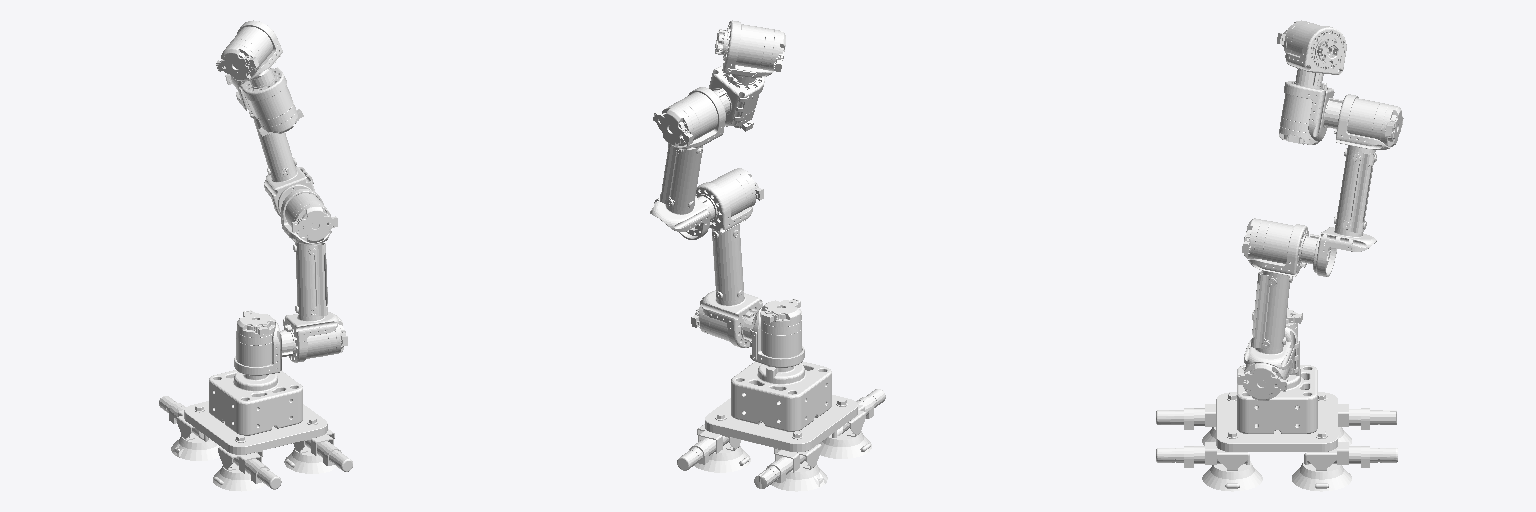
URDF robot description (jxb_sldasm):
<?xml version="1.0" encoding="utf-8" ?>
<!-- This URDF was automatically created by SolidWorks to URDF Exporter! Originally created by [author] ([email redacted]) 
     Commit Version: 1.6.0-4-g7f85cfe  Build Version: 1.6.7995.38578
     For more information, please see http://wiki.ros.org/sw_urdf_exporter -->
<robot name="jxb_sldasm">
    <link name="world"/>
    <joint name="fixed" type="fixed">
        <parent link="world"/>
        <child link="base_link"/>
</joint>
    <link name="base_link">
        <inertial>
            <origin xyz="0.00707733281285925 0.00390163519095444 0.0487248145542146" rpy="0 0 0" />
            <mass value="0.0000645528747878921" />
            <inertia ixx="0.0957396760294433" ixy="-2.58295144860551E-04" ixz="2.49382285641521E-06" iyy="0.0161499845822829" iyz="8.27662153337809E-05" izz="0.0858151890450393" />
        </inertial>
        <visual>
            <origin xyz="0 0 0" rpy="0 0 0" />
            <geometry>
                <mesh filename="package://jxb_sldasm/meshes/base_link.STL" />
            </geometry>
            <material name="">
                <color rgba="1 1 1 1" />
            </material>
        </visual>
        <collision>
            <origin xyz="0 0 0" rpy="0 0 0" />
            <geometry>
                <mesh filename="package://jxb_sldasm/meshes/base_link.STL" />
            </geometry>
        </collision>
    </link>
    <link name="j1_Link">
        <inertial>
            <origin xyz="-0.000467634014051053 -0.0284246972648927 0.0206555227855105" rpy="0 0 0" />
            <mass value="0.00000503529246369942" />
            <inertia ixx="2.84372510677827E-03" ixy="1.99420221191551E-9" ixz="-2.9146517555499E-07" iyy="2.75681662923528E-03" iyz="6.628531647362E-04" izz="2.51555208533708E-03" />
        </inertial>
        <visual>
            <origin xyz="0 0 0" rpy="0 0 0" />
            <geometry>
                <mesh filename="package://jxb_sldasm/meshes/j1_Link.STL" />
            </geometry>
            <material name="">
                <color rgba="1 1 1 1" />
            </material>
        </visual>
        <collision>
            <origin xyz="0 0 0" rpy="0 0 0" />
            <geometry>
                <mesh filename="package://jxb_sldasm/meshes/j1_Link.STL" />
            </geometry>
        </collision>
    </link>
    <joint name="j1" type="continuous">
        <origin xyz="-0.00371277173823002 -0.0487683768362331 0.0654949990001021" rpy="-1.57079632679489 0 -1.73190275212092" />
        <parent link="base_link" />
        <child link="j1_Link" />
        <axis xyz="0 1 0" />
    </joint>
    <link name="j2_Link">
        <inertial>
            <origin xyz="-5.25984108712407E-07 -0.0189831158015428 0.0392180438175903" rpy="0 0 0" />
            <mass value="0.00000468335738815202" />
            <inertia ixx="2.62800581707767E-03" ixy="-3.00150398338351E-08" ixz="1.82573542271984E-07" iyy="2.50074053197019E-03" iyz="6.26678281223961E-04" izz="2.54824789081549E-03" />
        </inertial>
        <visual>
            <origin xyz="0 0 0" rpy="0 0 0" />
            <geometry>
                <mesh filename="package://jxb_sldasm/meshes/j2_Link.STL" />
            </geometry>
            <material name="">
                <color rgba="1 1 1 1" />
            </material>
        </visual>
        <collision>
            <origin xyz="0 0 0" rpy="0 0 0" />
            <geometry>
                <mesh filename="package://jxb_sldasm/meshes/j2_Link.STL" />
            </geometry>
        </collision>
    </link>
    <joint name="j2" type="continuous">
        <origin xyz="0 -0.0360050009998999 0.0320793825378335" rpy="0 0 -0.0932539917190856" />
        <parent link="j1_Link" />
        <child link="j2_Link" />
        <axis xyz="0 0 -1" />
    </joint>
    <link name="j3_Link">
        <inertial>
            <origin xyz="-0.000813529048631828 -0.0965325373980729 -0.00376628112122888" rpy="0 0 0" />
            <mass value="0.00000587742012930213" />
            <inertia ixx="4.00663353174676E-03" ixy="-1.91961560417403E-08" ixz="-7.78318310715432E-06" iyy="2.79401427021461E-03" iyz="-6.26676992113216E-04" izz="3.88800338742538E-03" />
        </inertial>
        <visual>
            <origin xyz="0 0 0" rpy="0 0 0" />
            <geometry>
                <mesh filename="package://jxb_sldasm/meshes/j3_Link.STL" />
            </geometry>
            <material name="">
                <color rgba="1 1 1 1" />
            </material>
        </visual>
        <collision>
            <origin xyz="0 0 0" rpy="0 0 0" />
            <geometry>
                <mesh filename="package://jxb_sldasm/meshes/j3_Link.STL" />
            </geometry>
        </collision>
    </link>
    <joint name="j3" type="continuous">
        <origin xyz="0 -0.0376021687262774 0.047120617462167" rpy="-3.14159265330962 1.47911274323965 -3.14159265330844" />
        <parent link="j2_Link" />
        <child link="j3_Link" />
        <axis xyz="0 1 0" />
    </joint>
    <link name="j4_Link">
        <inertial>
            <origin xyz="-0.000926762993110702 -0.0392758870005305 -0.0591773900447444" rpy="0 0 0" />
            <mass value="0.00000770130248054421" />
            <inertia ixx="4.28784255583072E-03" ixy="1.95920500209058E-07" ixz="7.80761191412381E-06" iyy="3.07320922869266E-03" iyz="-6.10023531828584E-04" izz="4.35250142962103E-03" />
        </inertial>
        <visual>
            <origin xyz="0 0 0" rpy="0 0 0" />
            <geometry>
                <mesh filename="package://jxb_sldasm/meshes/j4_Link.STL" />
            </geometry>
            <material name="">
                <color rgba="1 1 1 1" />
            </material>
        </visual>
        <collision>
            <origin xyz="0 0 0" rpy="0 0 0" />
            <geometry>
                <mesh filename="package://jxb_sldasm/meshes/j4_Link.STL" />
            </geometry>
        </collision>
    </link>
    <joint name="j4" type="continuous">
        <origin xyz="0 -0.135397831273731 -0.0129530722227053" rpy="0 0 0.250121033232269" />
        <parent link="j3_Link" />
        <child link="j4_Link" />
        <axis xyz="0 0 -1" />
    </joint>
    <link name="j5_Link">
        <inertial>
            <origin xyz="0.000468469291555085 -0.00764696062652798 -0.0116640457997296" rpy="0 0 0" />
            <mass value="0.00000502376036372406" />
            <inertia ixx="2.84690401468513E-03" ixy="-3.98548667923441E-08" ixz="-2.28580213803622E-07" iyy="2.74050699121556E-03" iyz="6.57903698093498E-02" izz="2.50836286519278E-03" />
        </inertial>
        <visual>
            <origin xyz="0 0 0" rpy="0 0 0" />
            <geometry>
                <mesh filename="package://jxb_sldasm/meshes/j5_Link.STL" />
            </geometry>
            <material name="">
                <color rgba="1 1 1 1" />
            </material>
        </visual>
        <collision>
            <origin xyz="0 0 0" rpy="0 0 0" />
            <geometry>
                <mesh filename="package://jxb_sldasm/meshes/j5_Link.STL" />
            </geometry>
        </collision>
    </link>
    <joint name="j5" type="continuous">
        <origin xyz="0 -0.172999999999992 0" rpy="0 0 0.100392846686112" />
        <parent link="j4_Link" />
        <child link="j5_Link" />
        <axis xyz="0 0 1" />
    </joint>
    <link name="j6_Link">
        <inertial>
            <origin xyz="-0.000422063116782723 -0.0169962730691598 0.0103381753596599" rpy="0 0 0" />
            <mass value="0.00000559234056903561" />
            <inertia ixx="2.83280936496896E-03" ixy="-3.31282048526111E-07" ixz="-4.18923643613072E-09" iyy="2.50888981999624E-03" iyz="6.40111246103047E-04" izz="2.78821645724564E-0" />
        </inertial>
        <visual>
            <origin xyz="0 0 0" rpy="0 0 0" />
            <geometry>
                <mesh filename="package://jxb_sldasm/meshes/j6_Link.STL" />
            </geometry>
            <material name="">
                <color rgba="1 1 1 1" />
            </material>
        </visual>
        <collision>
            <origin xyz="0 0 0" rpy="0 0 0" />
            <geometry>
                <mesh filename="package://jxb_sldasm/meshes/j6_Link.STL" />
            </geometry>
        </collision>
    </link>
    <joint name="j6" type="continuous">
        <origin xyz="0 -0.0438226071391495 0.008953072222701" rpy="3.14159265358967 -0.799218945065399 -3.14159265358971" />
        <parent link="j5_Link" />
        <child link="j6_Link" />
        <axis xyz="0 -1 0" />
    </joint>
    <transmission name="trans_j1">
        <type>transmission_interface/SimpleTransmission</type>
        <joint name="j1">
            <hardwareInterface>hardware_interface/EffortJointInterface</hardwareInterface>
        </joint>
        <actuator name="j1_motor">
            <hardwareInterface>hardware_interface/EffortJointInterface</hardwareInterface>
            <mechanicalReduction>1</mechanicalReduction>
        </actuator>
    </transmission>
    <transmission name="trans_j2">
        <type>transmission_interface/SimpleTransmission</type>
        <joint name="j2">
            <hardwareInterface>hardware_interface/EffortJointInterface</hardwareInterface>
        </joint>
        <actuator name="j2_motor">
            <hardwareInterface>hardware_interface/EffortJointInterface</hardwareInterface>
            <mechanicalReduction>1</mechanicalReduction>
        </actuator>
    </transmission>
    <transmission name="trans_j3">
        <type>transmission_interface/SimpleTransmission</type>
        <joint name="j3">
            <hardwareInterface>hardware_interface/EffortJointInterface</hardwareInterface>
        </joint>
        <actuator name="j3_motor">
            <hardwareInterface>hardware_interface/EffortJointInterface</hardwareInterface>
            <mechanicalReduction>1</mechanicalReduction>
        </actuator>
    </transmission>
    <transmission name="trans_j4">
        <type>transmission_interface/SimpleTransmission</type>
        <joint name="j4">
            <hardwareInterface>hardware_interface/EffortJointInterface</hardwareInterface>
        </joint>
        <actuator name="j4_motor">
            <hardwareInterface>hardware_interface/EffortJointInterface</hardwareInterface>
            <mechanicalReduction>1</mechanicalReduction>
        </actuator>
    </transmission>
    <transmission name="trans_j5">
        <type>transmission_interface/SimpleTransmission</type>
        <joint name="j5">
            <hardwareInterface>hardware_interface/EffortJointInterface</hardwareInterface>
        </joint>
        <actuator name="j5_motor">
            <hardwareInterface>hardware_interface/EffortJointInterface</hardwareInterface>
            <mechanicalReduction>1</mechanicalReduction>
        </actuator>
    </transmission>
    <transmission name="trans_j6">
        <type>transmission_interface/SimpleTransmission</type>
        <joint name="j6">
            <hardwareInterface>hardware_interface/EffortJointInterface</hardwareInterface>
        </joint>
        <actuator name="j6_motor">
            <hardwareInterface>hardware_interface/EffortJointInterface</hardwareInterface>
            <mechanicalReduction>1</mechanicalReduction>
        </actuator>
    </transmission>
    <gazebo>
        <plugin name="gazebo_ros_control" filename="libgazebo_ros_control.so">
            <robotNamespace>/</robotNamespace>
        </plugin>
    </gazebo>
</robot>

--- Render facts (derived) ---
The picture shows the robot from 3 angles, left to right: view 1: azimuth 30°, elevation 25°; view 2: azimuth 150°, elevation 25°; view 3: azimuth 270°, elevation 25°; orthographic projection.
Robot: jxb_sldasm — 8 links, 7 joints (6 continuous, 1 fixed); root link world; default pose: all joints at 0.
Links seen in each view (by area): view 1: base_link, j3_Link, j1_Link, j6_Link, j4_Link, j5_Link, j2_Link; view 2: base_link, j4_Link, j3_Link, j1_Link, j6_Link, j2_Link, j5_Link; view 3: base_link, j4_Link, j3_Link, j6_Link, j5_Link, j2_Link, j1_Link.
Link boxes in pixels (box(x1,y1,x2,y2)): base_link: box(159, 370, 352, 491); j3_Link: box(281, 189, 337, 316); j1_Link: box(234, 310, 293, 375); j6_Link: box(216, 20, 282, 86); j4_Link: box(225, 74, 315, 216); j5_Link: box(239, 67, 303, 136); j2_Link: box(283, 312, 347, 362); base_link: box(677, 362, 885, 491); j4_Link: box(650, 87, 725, 239); j3_Link: box(696, 168, 763, 300); j1_Link: box(743, 299, 804, 367); j6_Link: box(715, 20, 785, 83); j2_Link: box(691, 290, 762, 347); j5_Link: box(709, 65, 764, 131); base_link: box(1156, 365, 1397, 491); j4_Link: box(1301, 94, 1403, 276); j3_Link: box(1242, 218, 1308, 349); j6_Link: box(1277, 20, 1346, 86); j5_Link: box(1279, 81, 1342, 144); j2_Link: box(1237, 340, 1294, 400); j1_Link: box(1252, 308, 1302, 374).
Bounding box of the posed robot: 0.2223 × 0.3047 × 0.604 m (x, y, z).
7 mesh visuals loaded from 7 distinct referenced files (7 binary STL).
